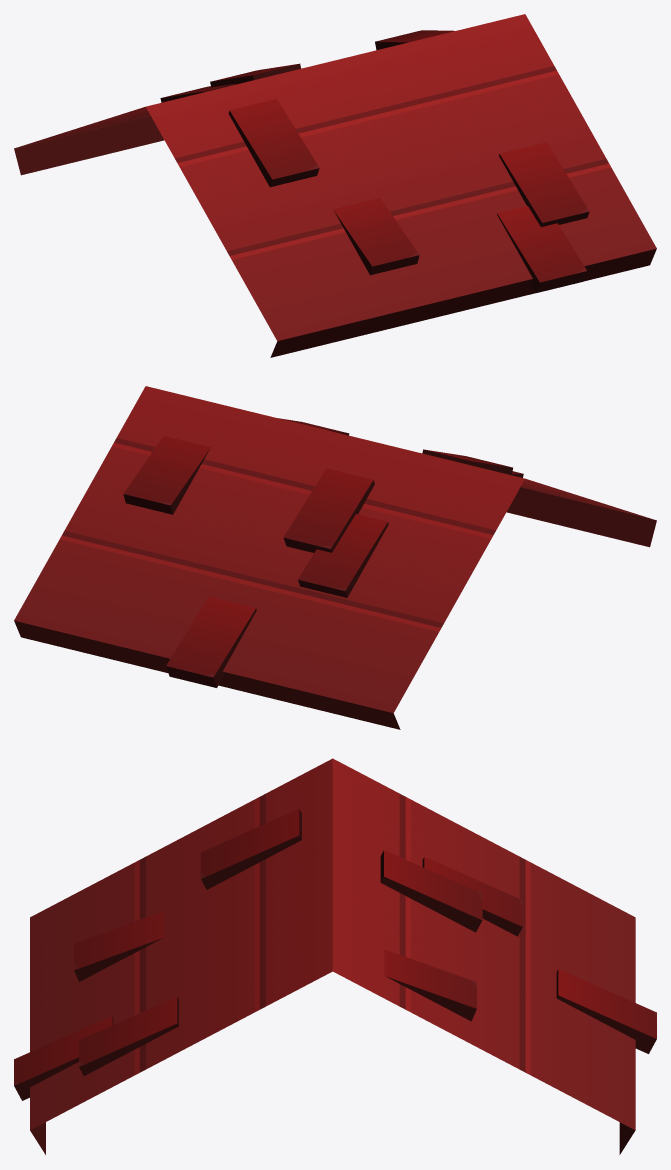
File: MESH_Petit_Toit_01.fbx
3 views of the same model, one above another, from view 1: azimuth 30°, elevation 25°; view 2: azimuth 150°, elevation 25°; view 3: azimuth 270°, elevation 25° (orthographic). The views are drawn at different scales.
Parts seen in each view (by area): view 1: MESH_Petit_Toit_01; view 2: MESH_Petit_Toit_01; view 3: MESH_Petit_Toit_01.
Part boxes in pixels (x1,y1,x2,y2): MESH_Petit_Toit_01: [14, 14, 656, 357]; MESH_Petit_Toit_01: [14, 386, 656, 729]; MESH_Petit_Toit_01: [14, 758, 656, 1154].
Bounding box in the file's own units: 3 × 1.21 × 3.83.
